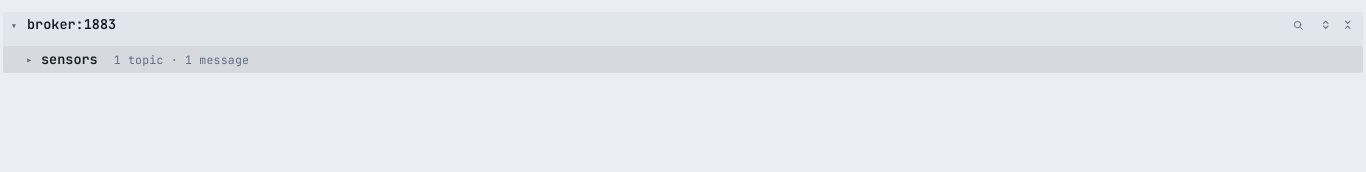
Test case: TopicTree › keeps a branch closed until it is opened
What coordinates should you click on to do the following:
click the button named "Expand sensors"
I would click on:
 (28, 60)
Its box is [23,55,33,65].
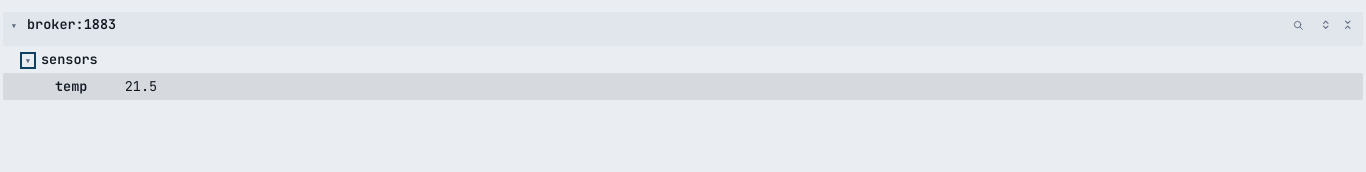
Now the text "temp" is shown, box [55,77,87,95]
